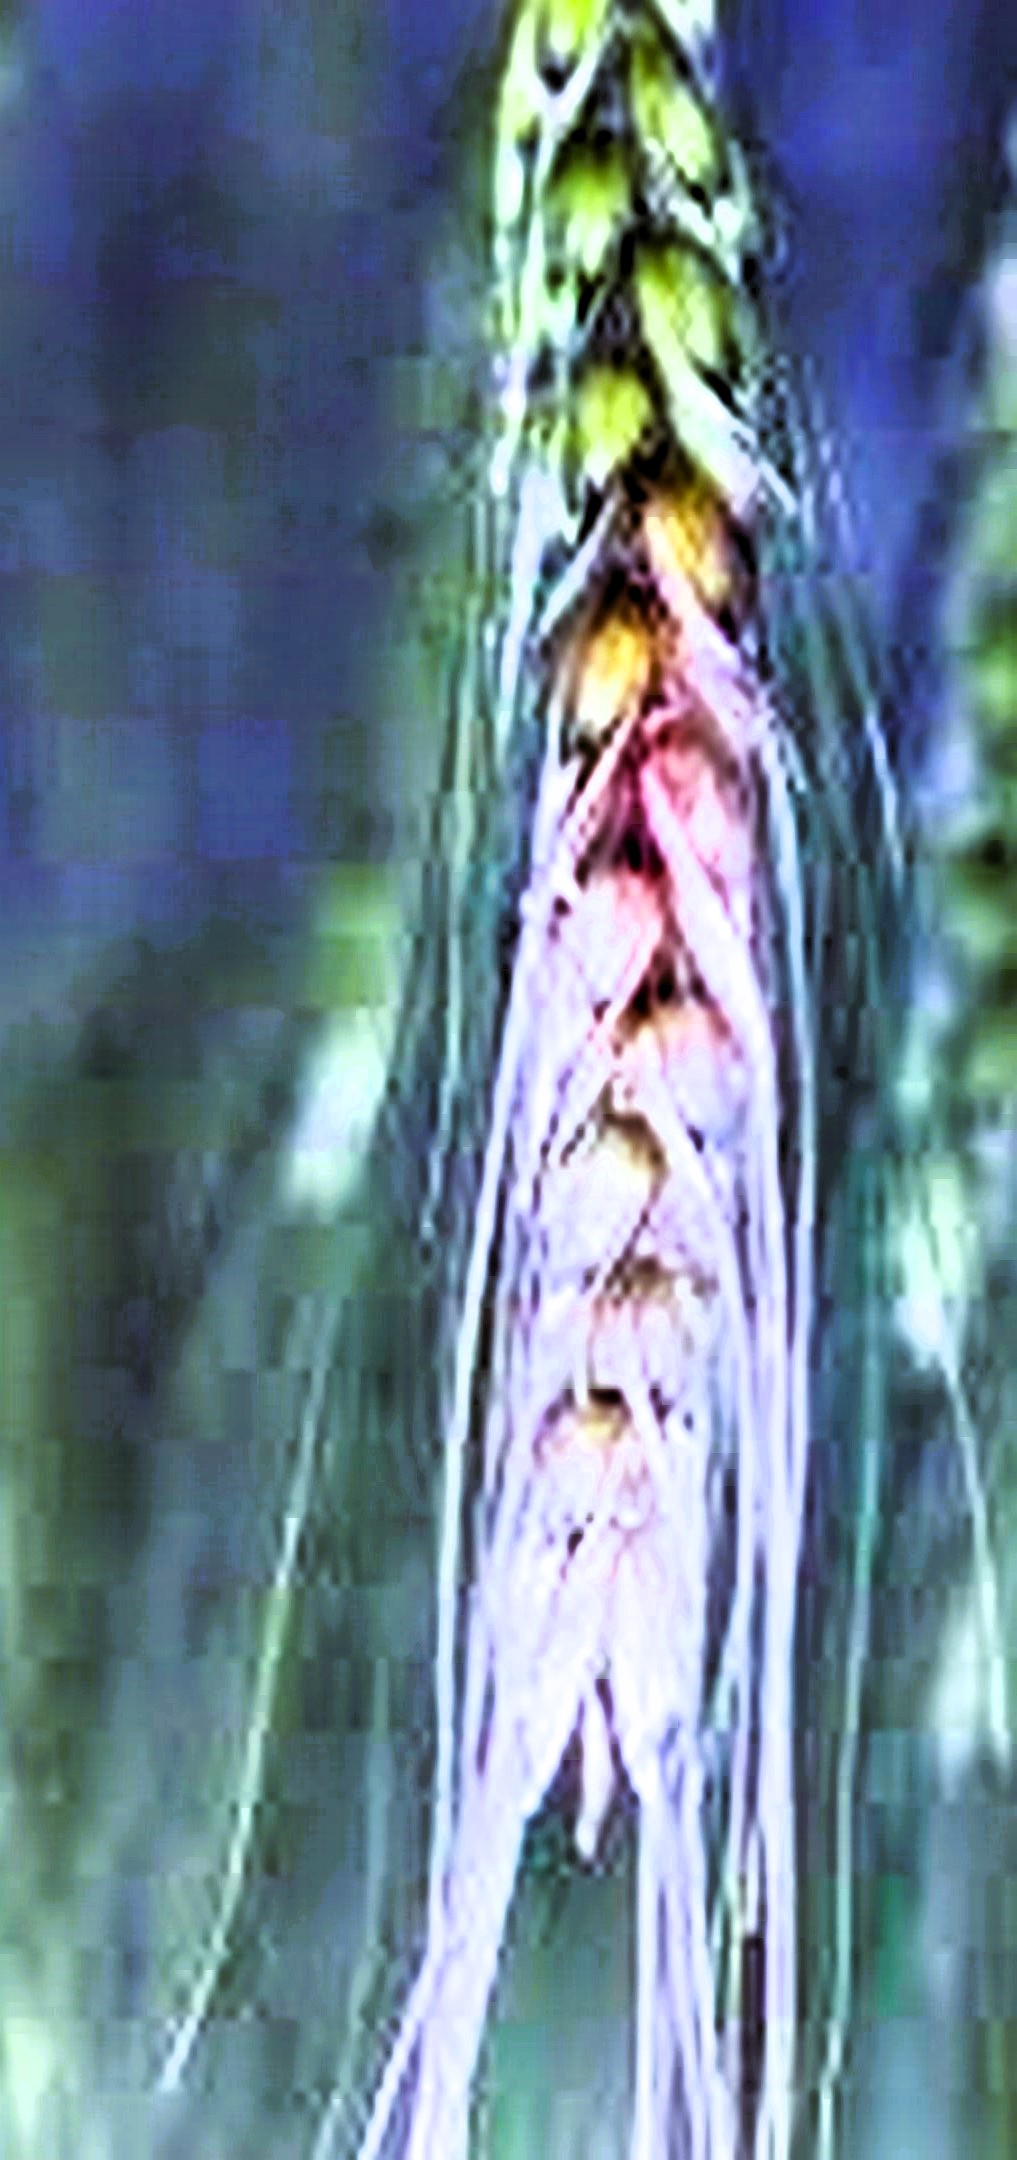Wheat scab: (380, 1, 894, 1923)
